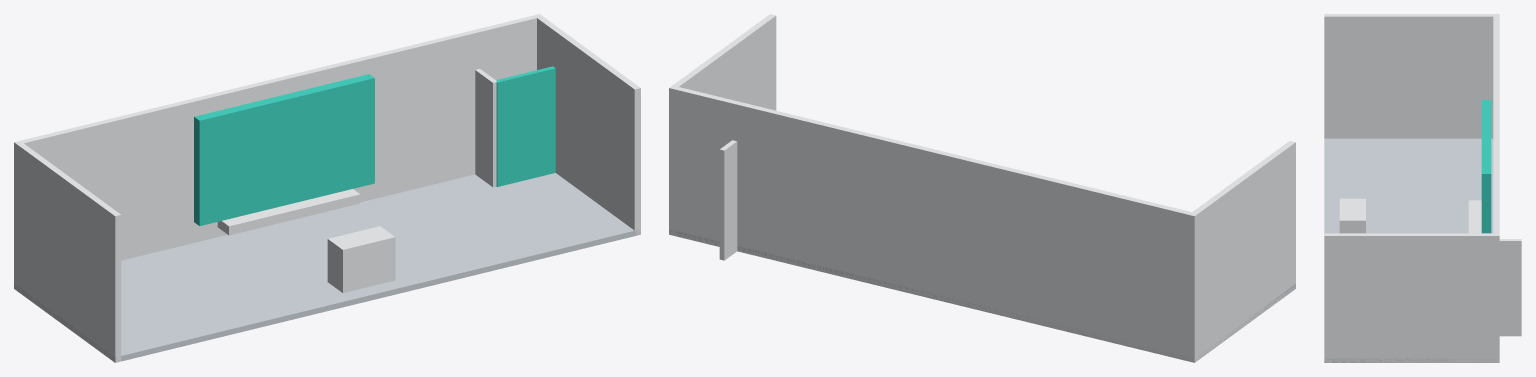
3 views of the same model, side by side, from view 1: azimuth 30°, elevation 25°; view 2: azimuth 150°, elevation 25°; view 3: azimuth 270°, elevation 25° (orthographic). The views are drawn at different scales.
Parts seen in each view (by area): view 1: Exhibition Booth Concept; view 2: Exhibition Booth Concept; view 3: Exhibition Booth Concept.
Part boxes in pixels (x1,y1,x2,y2): Exhibition Booth Concept: (14, 14, 640, 362); Exhibition Booth Concept: (669, 14, 1295, 362); Exhibition Booth Concept: (1324, 14, 1521, 362).
Size of the model in its own units: 12 by 3.2 by 4.51.
